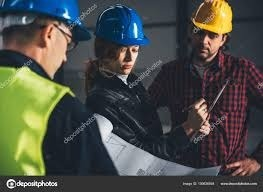helmet: (2, 1, 98, 40), (94, 3, 153, 50), (186, 1, 236, 37)
person with full safety: (1, 1, 91, 174)
person with partial safety: (179, 1, 257, 144), (93, 3, 158, 130)
safety vest: (1, 70, 80, 175)
